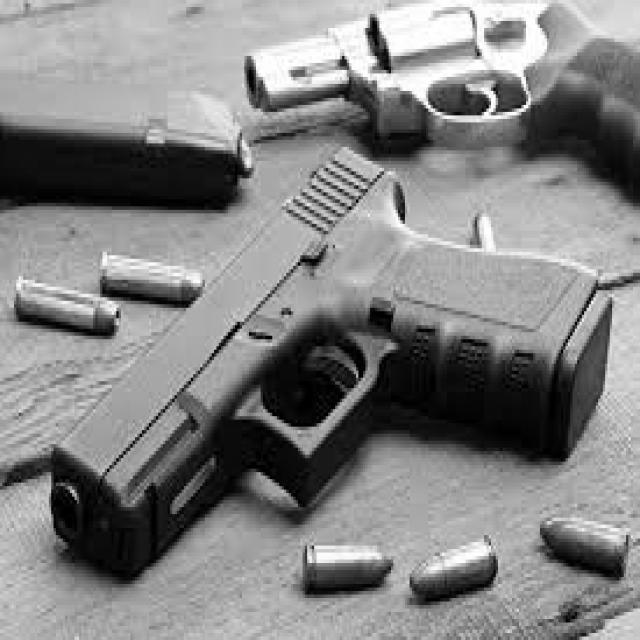gun: (49, 143, 612, 577), (245, 0, 640, 203)
